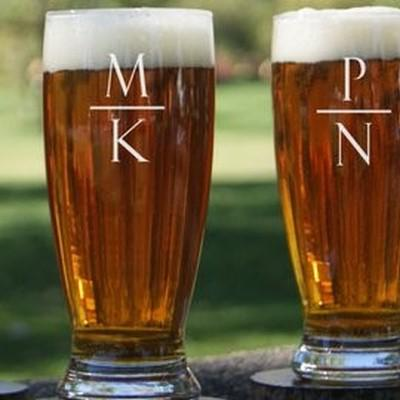beer: (35, 8, 217, 397)
